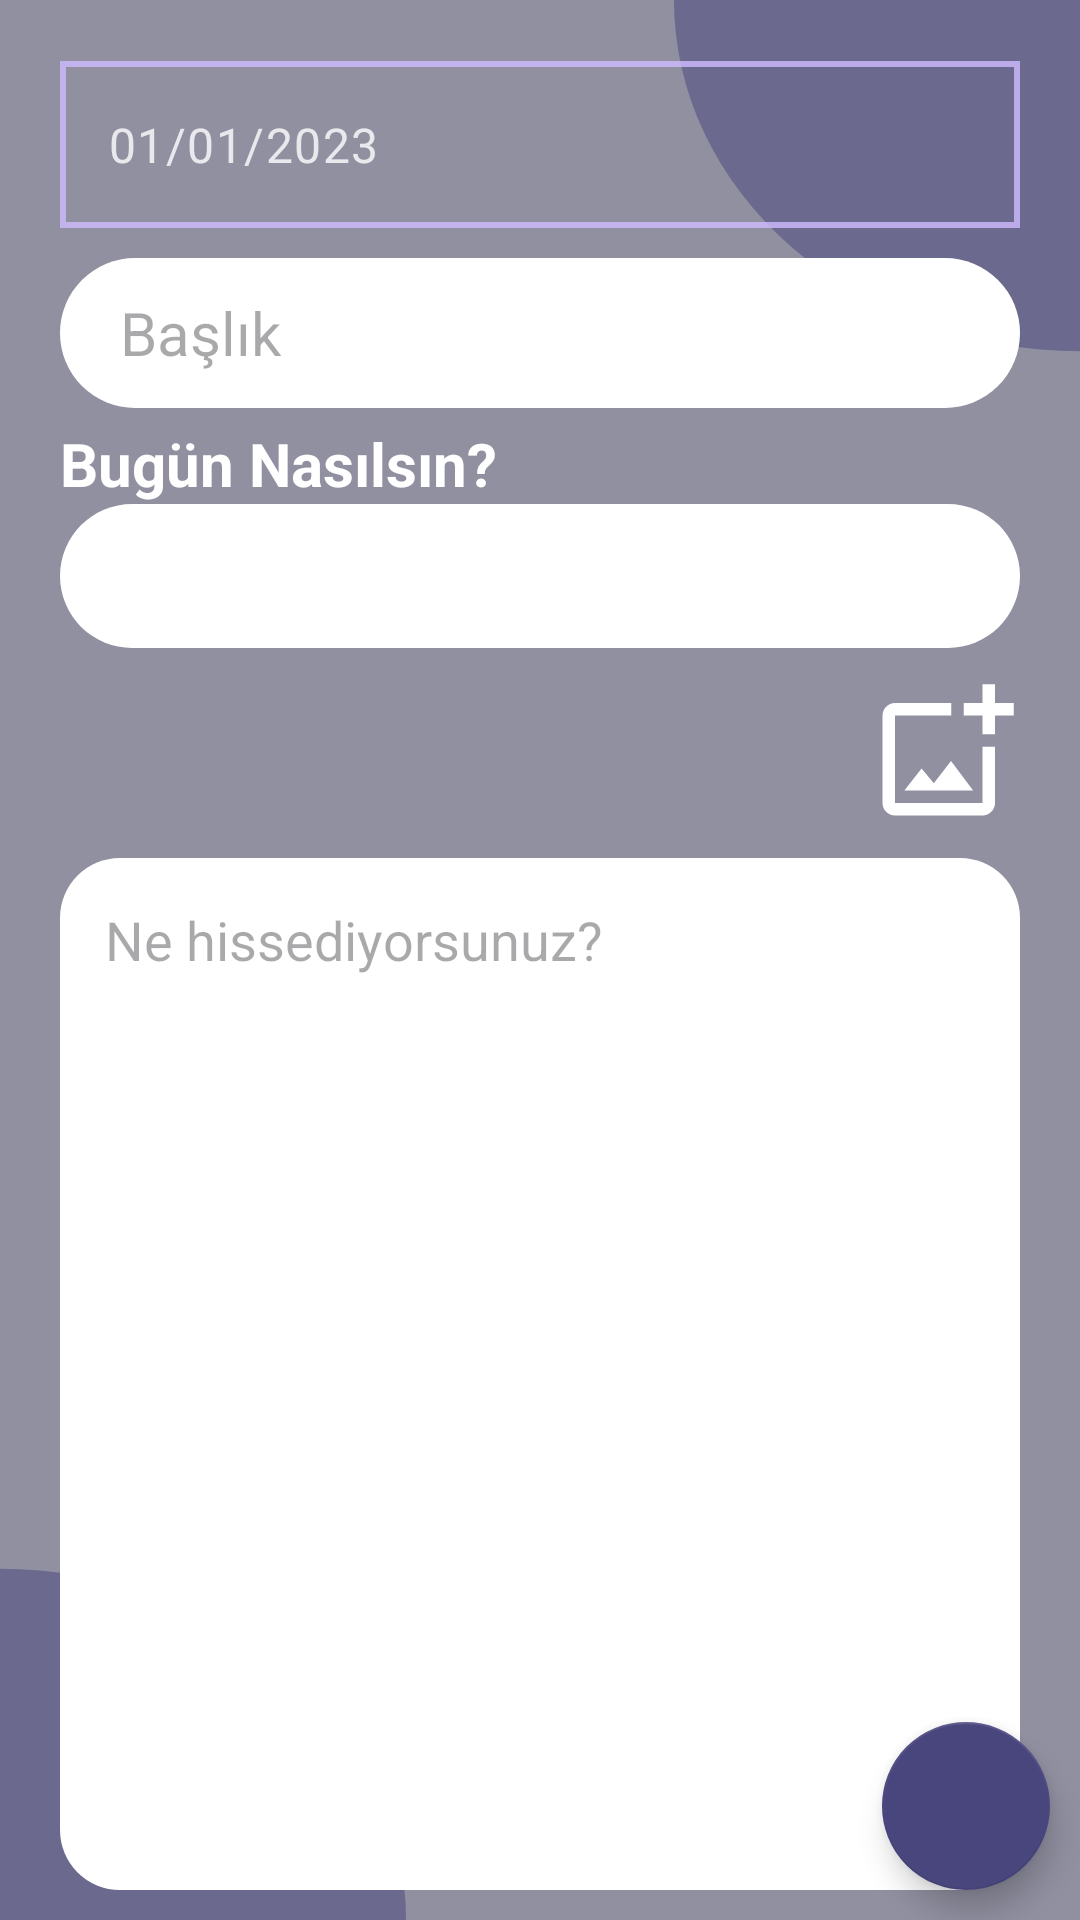

Icon click points for this 1080×1920 phone screenshot, format (x,y):
Fotoğraf ekleyin: (948,750)
